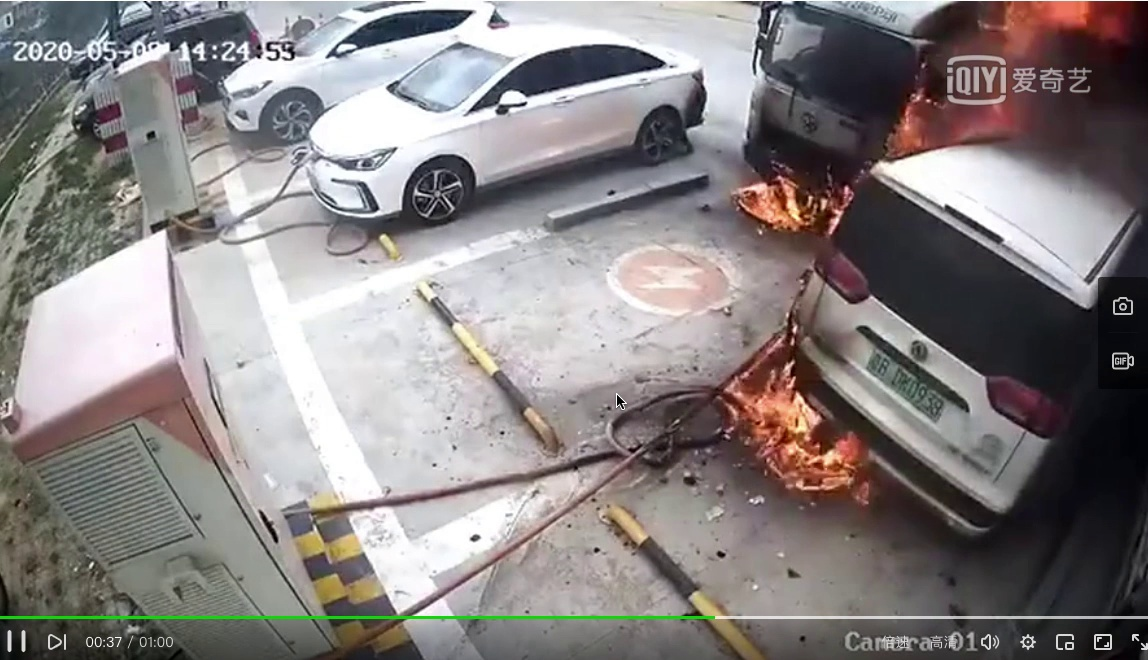fire: (897, 9, 1121, 145), (746, 362, 871, 516), (747, 159, 846, 232)
